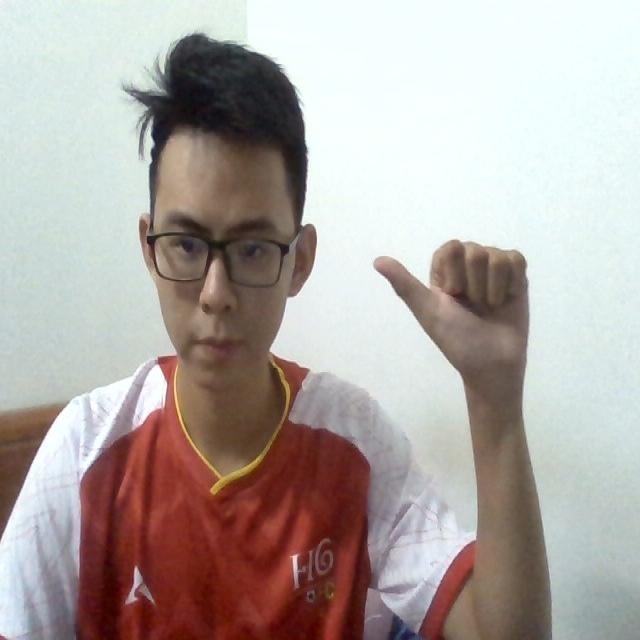A: (368, 238, 534, 390)
